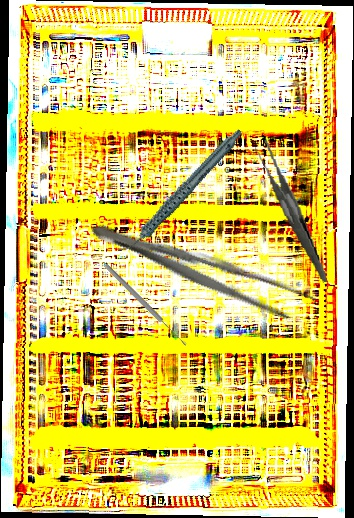Dressing Forceps: (84, 211, 321, 328), (254, 134, 327, 289)
Handpiece: (98, 128, 263, 256)
Surgical Spoon: (102, 262, 189, 348)
